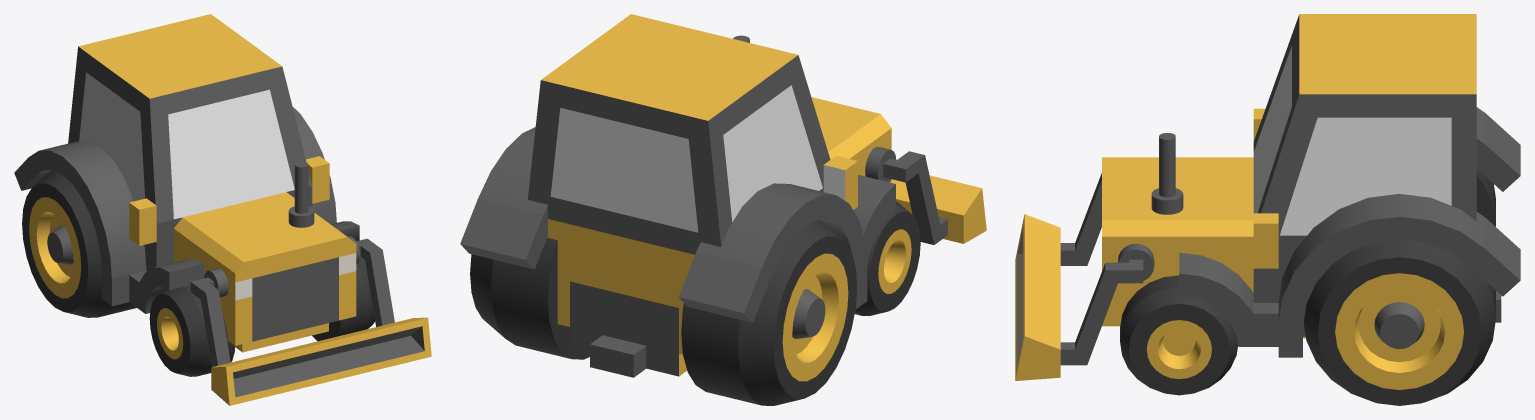
The model's file is tractorShovel.fbx.
The picture shows the model from 3 angles, left to right: view 1: azimuth 30°, elevation 25°; view 2: azimuth 150°, elevation 25°; view 3: azimuth 270°, elevation 25°; orthographic projection. The views are drawn at different scales.
Parts seen in each view (by area): view 1: body, shovel, skirts, wheel_backRight, wheel_frontRight, wheel_frontLeft; view 2: body, skirts, wheel_backRight, wheel_backLeft, shovel, wheel_frontRight; view 3: body, wheel_backLeft, skirts, shovel, wheel_frontLeft, wheel_backRight.
Part boxes in pixels (x1,y1,x2,y2): body: (68,14,356,352); shovel: (190,236,431,405); skirts: (14,107,359,313); wheel_backRight: (22,170,136,317); wheel_frontRight: (149,285,235,376); wheel_frontLeft: (312,256,374,341); body: (527,14,891,377); skirts: (460,127,895,322); wheel_backRight: (681,220,857,405); wheel_backLeft: (470,237,589,359); shovel: (865,147,986,244); wheel_frontRight: (854,201,920,315); body: (1102,14,1501,338); wheel_backLeft: (1303,239,1495,405); skirts: (1179,107,1520,357); shovel: (1015,173,1154,380); wheel_frontLeft: (1120,275,1237,395); wheel_backRight: (1476,169,1495,226).
Size of the model in its own units: 15.61 by 14.62 by 22.9.
